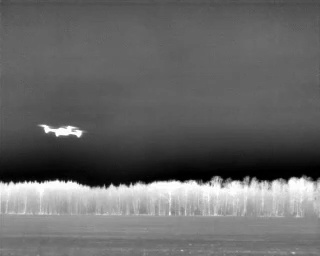DRONE: (36, 119, 91, 143)
